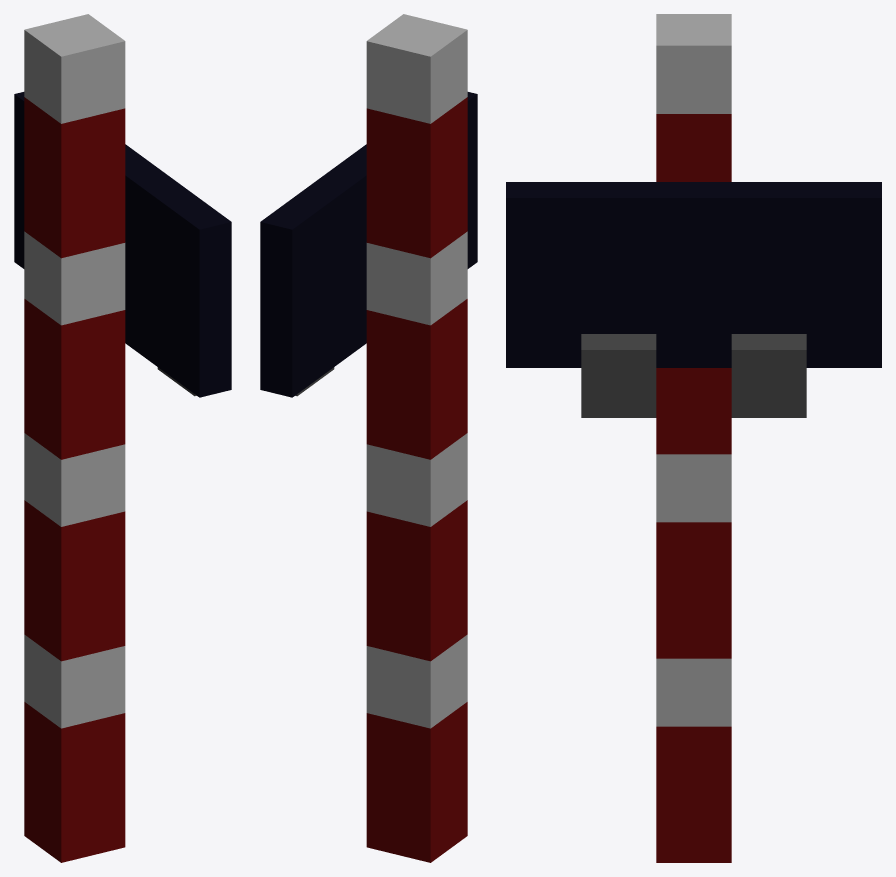
The model's file is roady_cross_assets-11.obj.
3 views of the same model, side by side, from view 1: azimuth 30°, elevation 25°; view 2: azimuth 150°, elevation 25°; view 3: azimuth 270°, elevation 25° (orthographic).
Size of the model in its own units: 0.4 by 2.4 by 1.
Materials: 1 (1 with a texture image).
